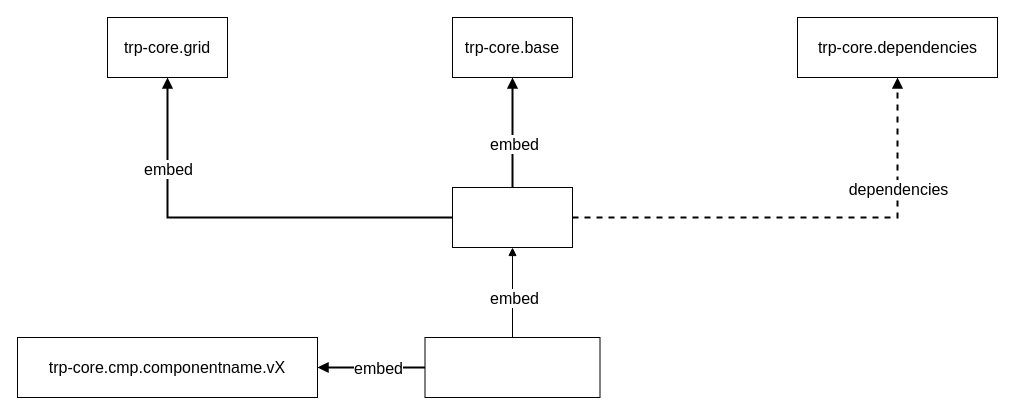
Image size: 1015x415. Some labels were removed from this diagram. The shapes that lost their labels are listed below. From the top down, each one's centre as x and y in pixels, then its label:
At (512,217): "trp-core.site".
At (512,367): "my-project.base".
